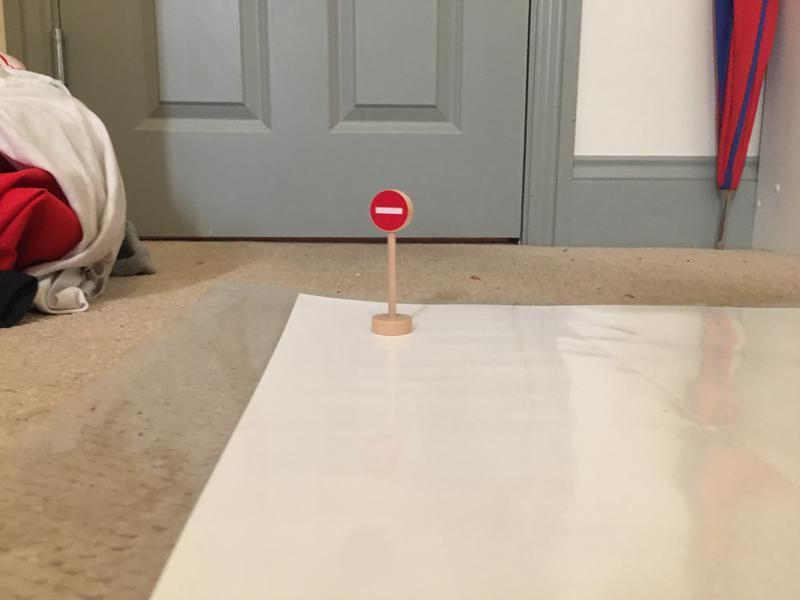Traffic_Sign_No_Entry: (369, 190, 408, 232)
